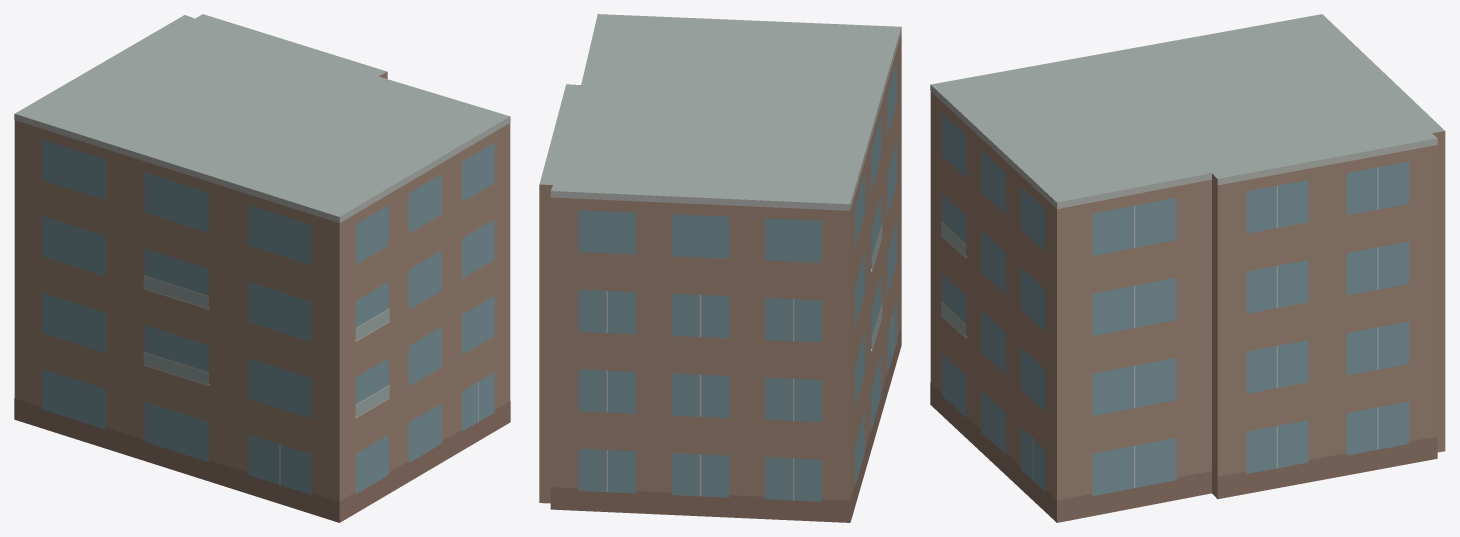
The model's file is survey-upis-32925440.glb.
3 views of the same model, side by side, from view 1: azimuth 30°, elevation 25°; view 2: azimuth 150°, elevation 25°; view 3: azimuth 270°, elevation 25° (orthographic). The views are drawn at different scales.
Visible parts, largest first — view 1: survey-upis-32925440.tmp; view 2: survey-upis-32925440.tmp; view 3: survey-upis-32925440.tmp.
Part boxes in pixels (x1,y1,x2,y2): survey-upis-32925440.tmp: [14, 14, 510, 522]; survey-upis-32925440.tmp: [539, 14, 901, 522]; survey-upis-32925440.tmp: [930, 14, 1445, 522].
Bounding box in the file's own units: 15.17 × 12 × 17.5.
